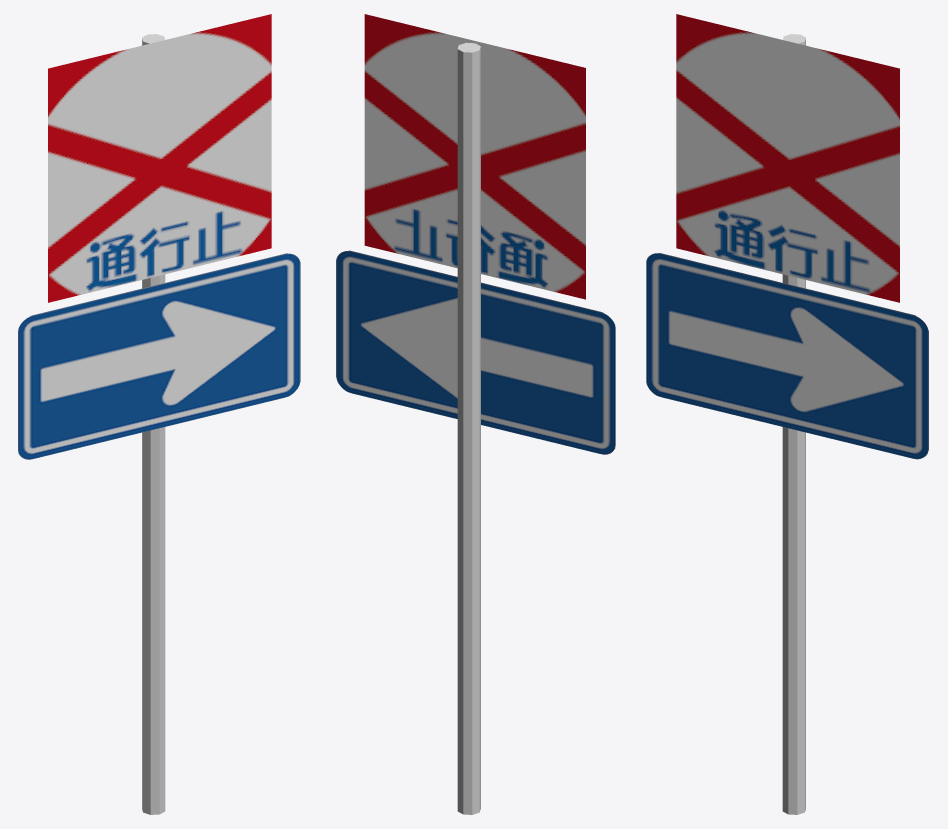
File: sign_03.fbx
3 renders of one model, left to right at view 1: azimuth 30°, elevation 25°; view 2: azimuth 150°, elevation 25°; view 3: azimuth 330°, elevation 25°, orthographic.
Visible parts, largest first — view 1: Plane.008, Plane.007, Cylinder.006; view 2: Plane.008, Plane.007, Cylinder.006; view 3: Plane.008, Plane.007, Cylinder.006.
Part boxes in pixels (left/top/right/bottom): Plane.008: left=48, top=14, right=271, bottom=302; Plane.007: left=18, top=253, right=300, bottom=459; Cylinder.006: left=142, top=34, right=165, bottom=814; Plane.008: left=364, top=14, right=585, bottom=299; Plane.007: left=336, top=250, right=615, bottom=454; Cylinder.006: left=457, top=42, right=480, bottom=814; Plane.008: left=676, top=14, right=899, bottom=302; Plane.007: left=646, top=253, right=928, bottom=459; Cylinder.006: left=782, top=34, right=805, bottom=814.
Size of the model in its own units: 5.41 by 13.98 by 0.4035.
3 materials, 2 textured.
